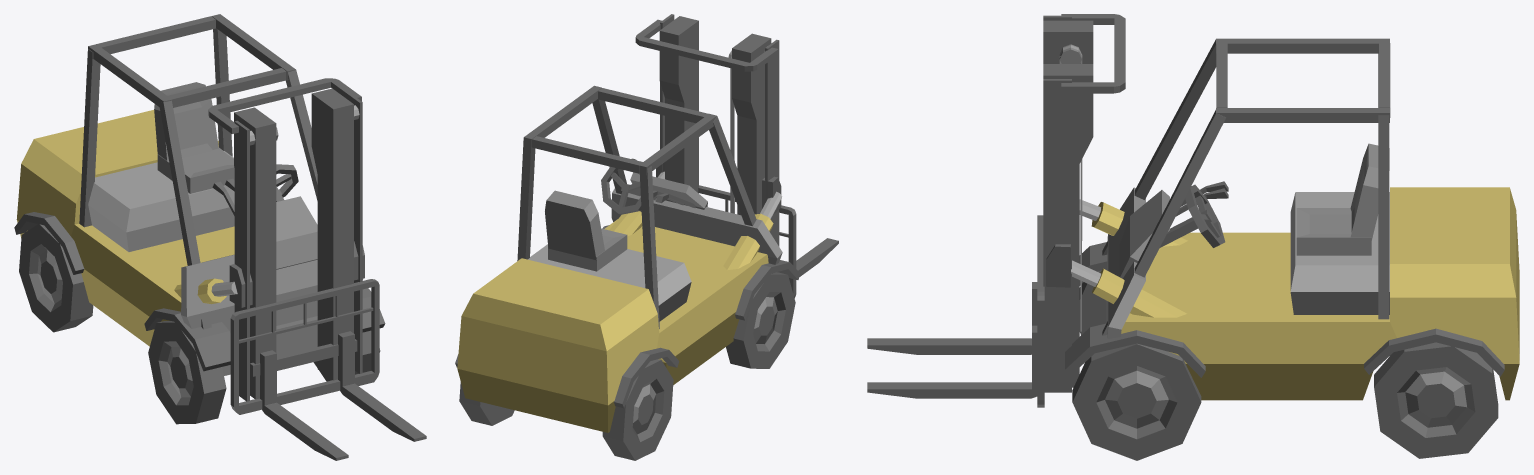
Rendered from forklift.glb.
3 views of the same model, side by side, from view 1: azimuth 30°, elevation 25°; view 2: azimuth 150°, elevation 25°; view 3: azimuth 270°, elevation 25° (orthographic). The views are drawn at different scales.
Parts seen in each view (by area): view 1: forklift; view 2: forklift; view 3: forklift.
Boxes of the visible parts, left/top/right/bottom form: forklift: left=14, top=14, right=426, bottom=460; forklift: left=455, top=14, right=838, bottom=460; forklift: left=867, top=14, right=1519, bottom=460.
Bounding box in the file's own units: 0.8461 × 1.42 × 2.31.
